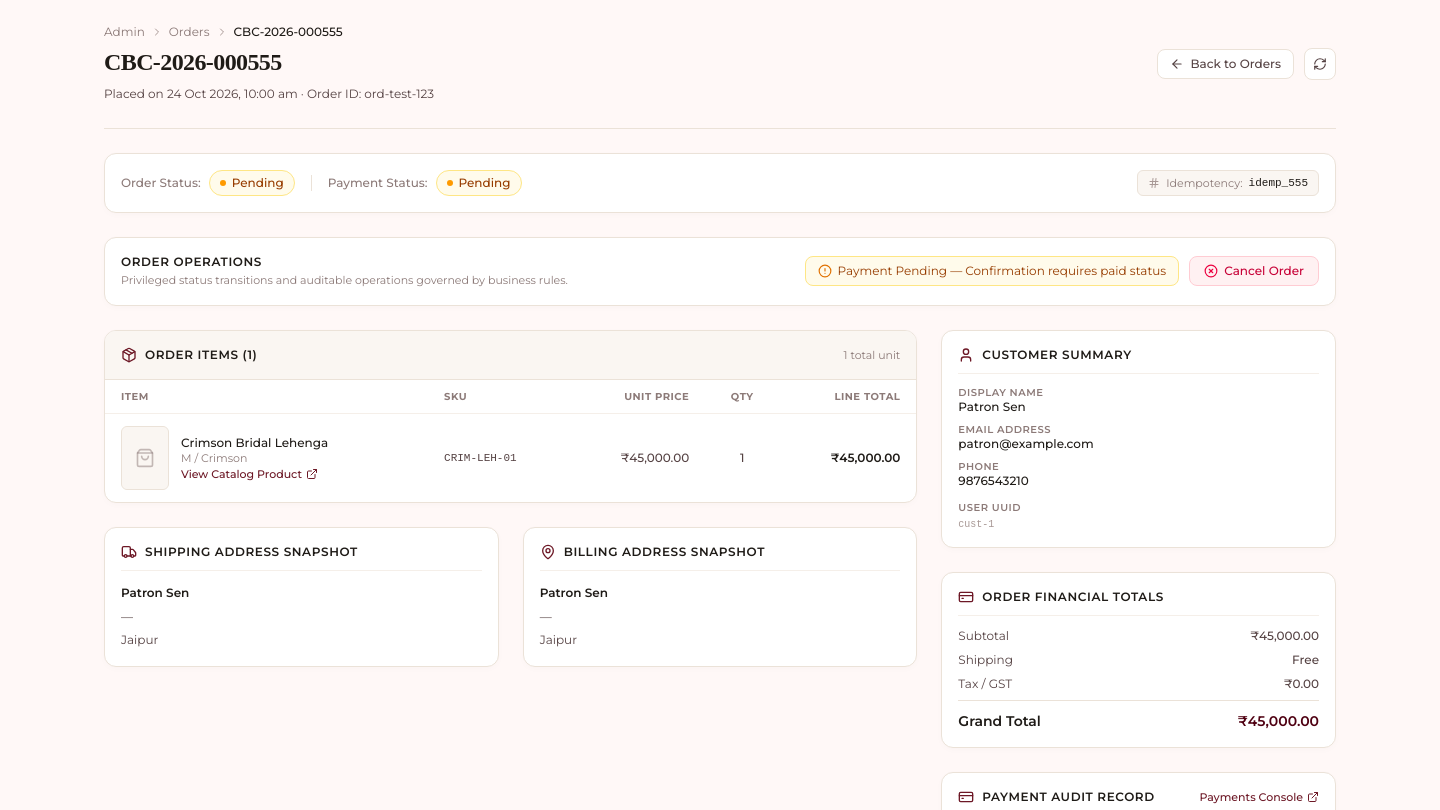
Scenario: AdminOrderDetailClient Operations & Transitions (Sprint A4.3) › handles cancellation modal with warning and submits cancellation successfully
The width and height of the screenshot is (1440, 810).
Click the button "Cancel Order".
click(1254, 271)  # box [1189,256,1319,286]
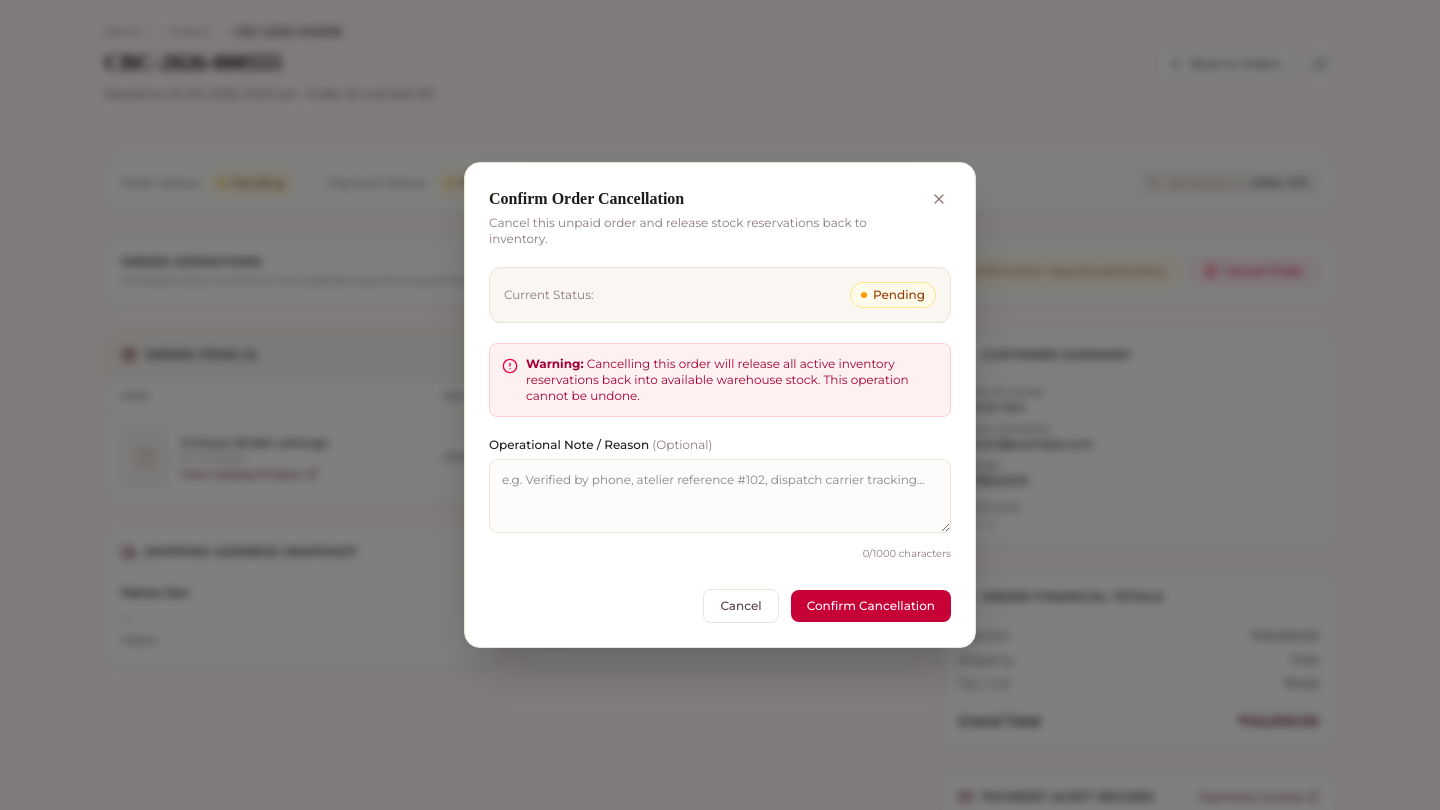
expect the dialog is shown: met
expect the heading "Confirm Order Cancellation" is shown: met, box [489,190,684,207]
expect the text "release all active inventory reservations" is shown: met, box [526,356,909,403]
Replace the text in the text box labelled "Operational Note / Reason (Optional)" with "Customer cancelled" at (720, 496), box [489,459,951,533]
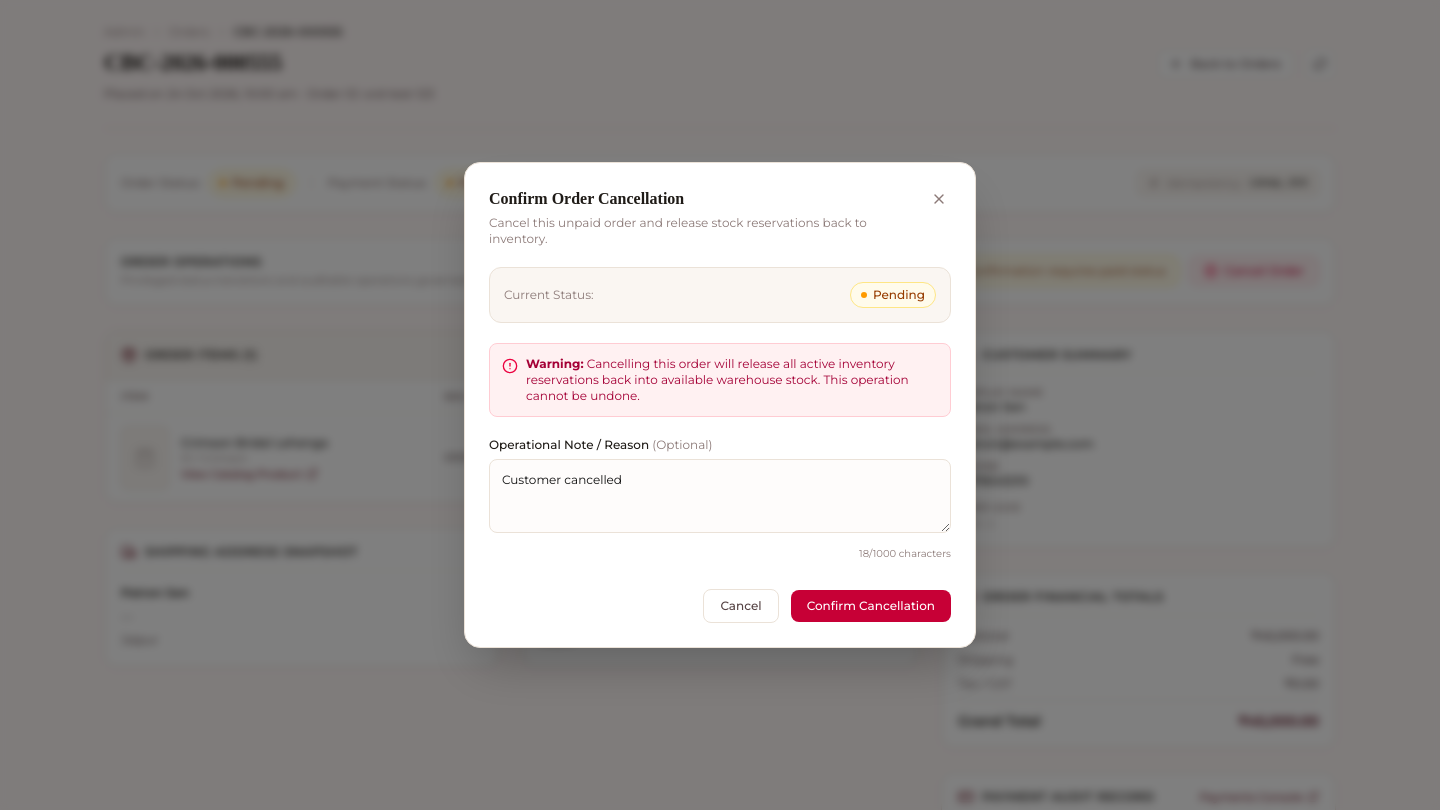
Click the button "Confirm Cancellation".
click(871, 606)  # box [791,590,951,622]
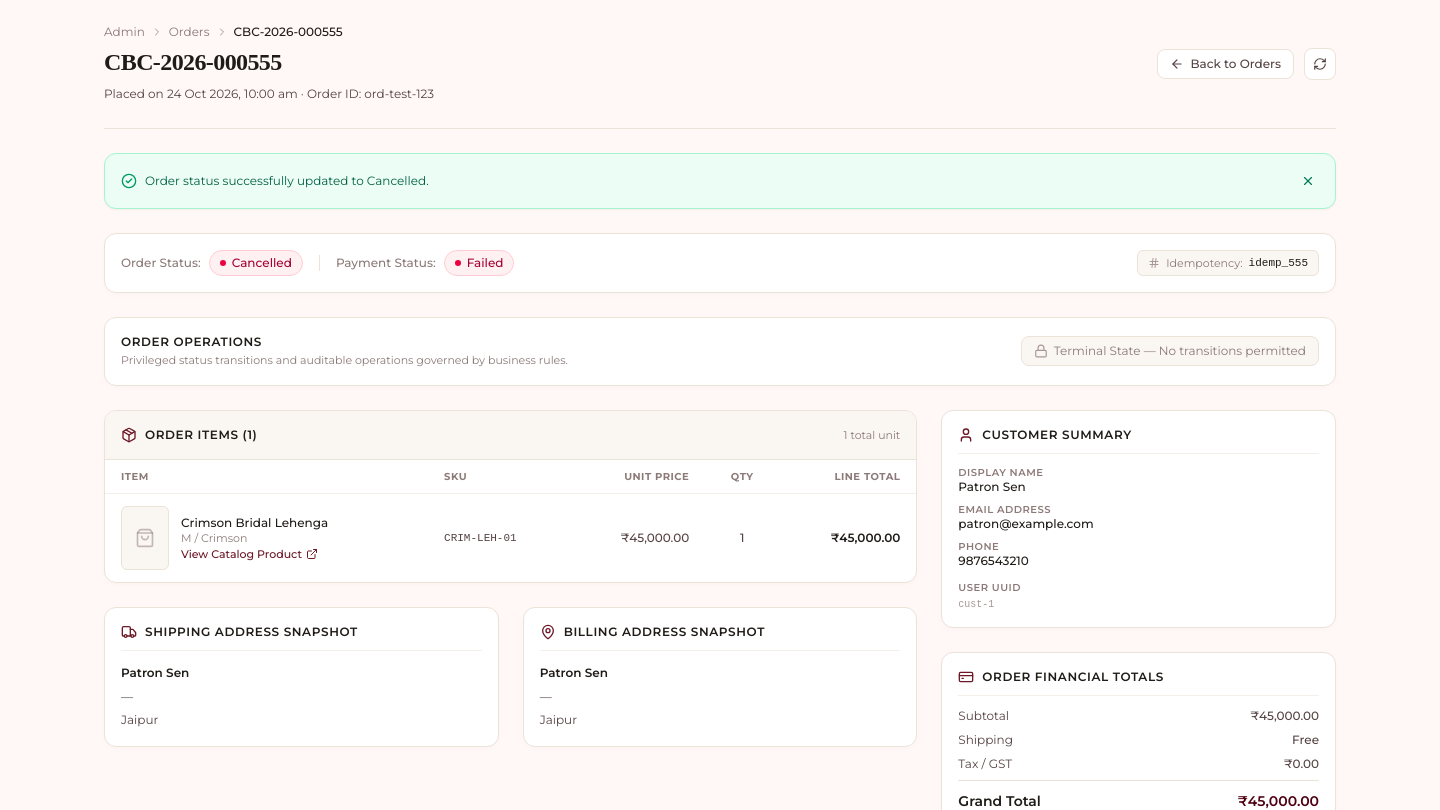
expect the text "Order status successfully updated to Cancelled." is shown: met, box [145,172,429,188]
